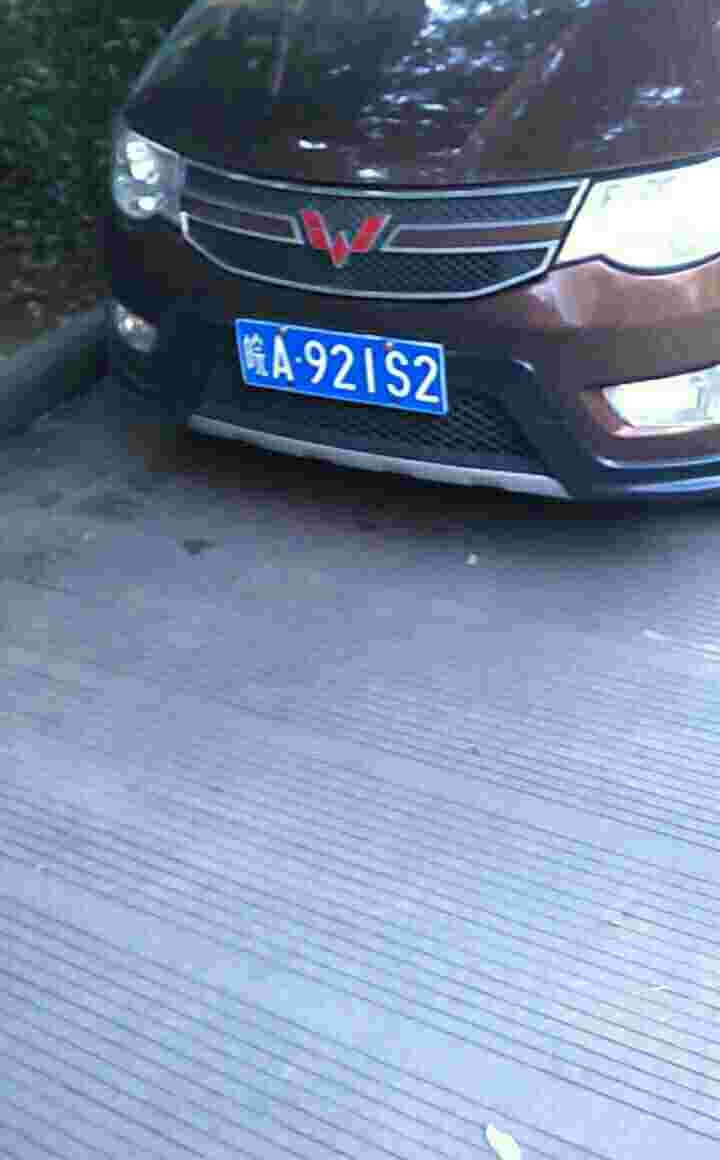plate: (235, 313, 451, 419)
